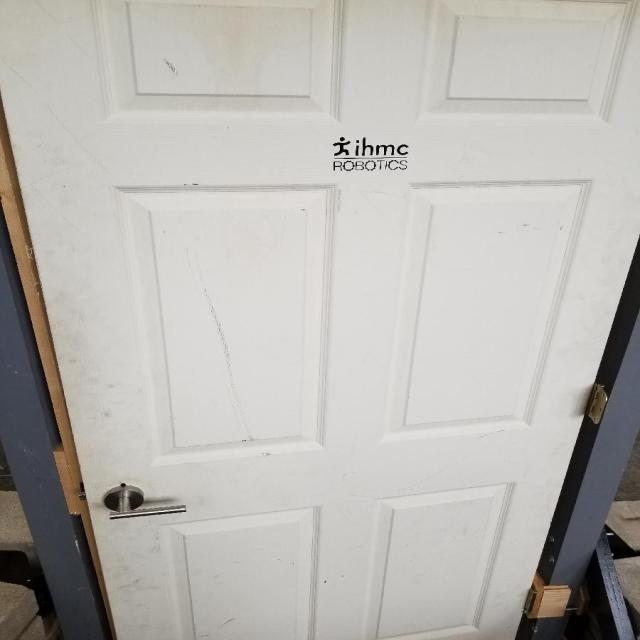door: (101, 483, 191, 523)
